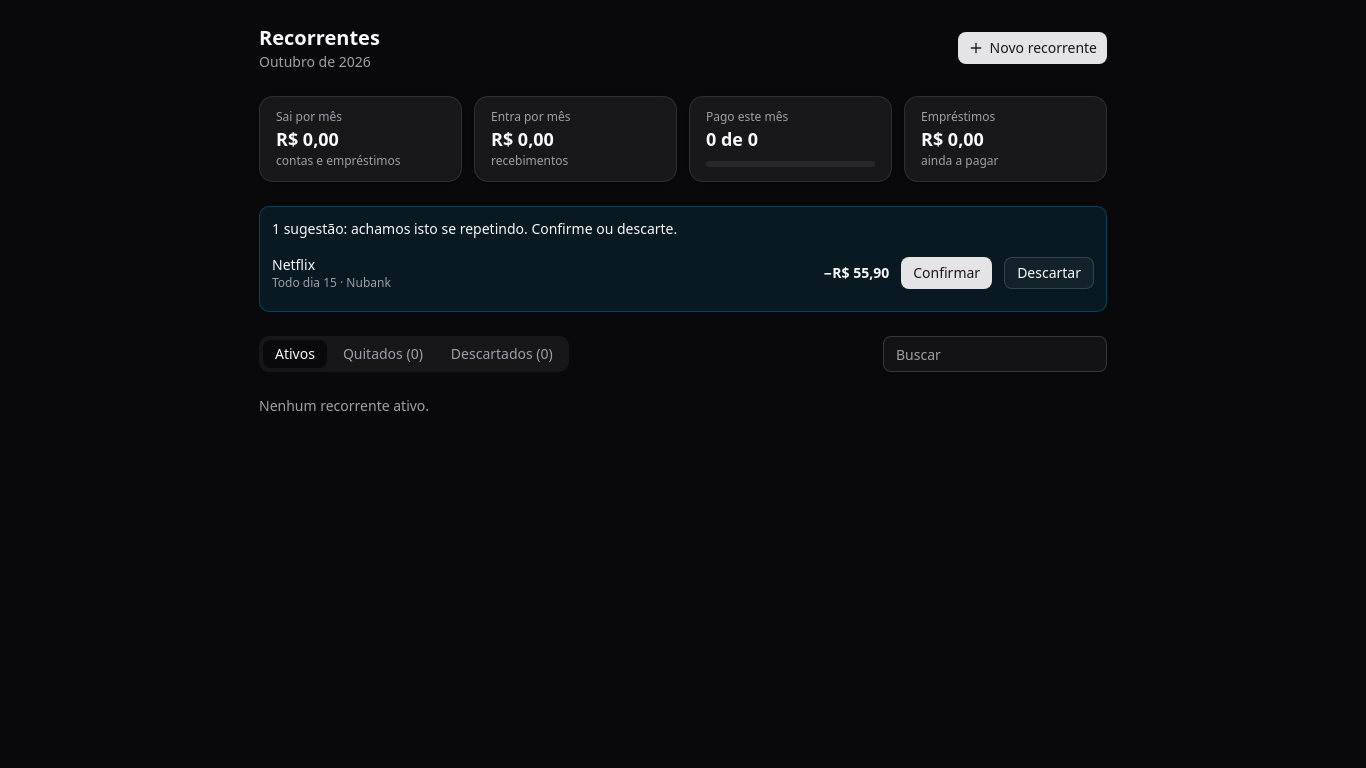
Recurring › rejects dayValue 32 in the form
Click the button "Confirmar" at (947, 273), box 901,257 -> 992,289
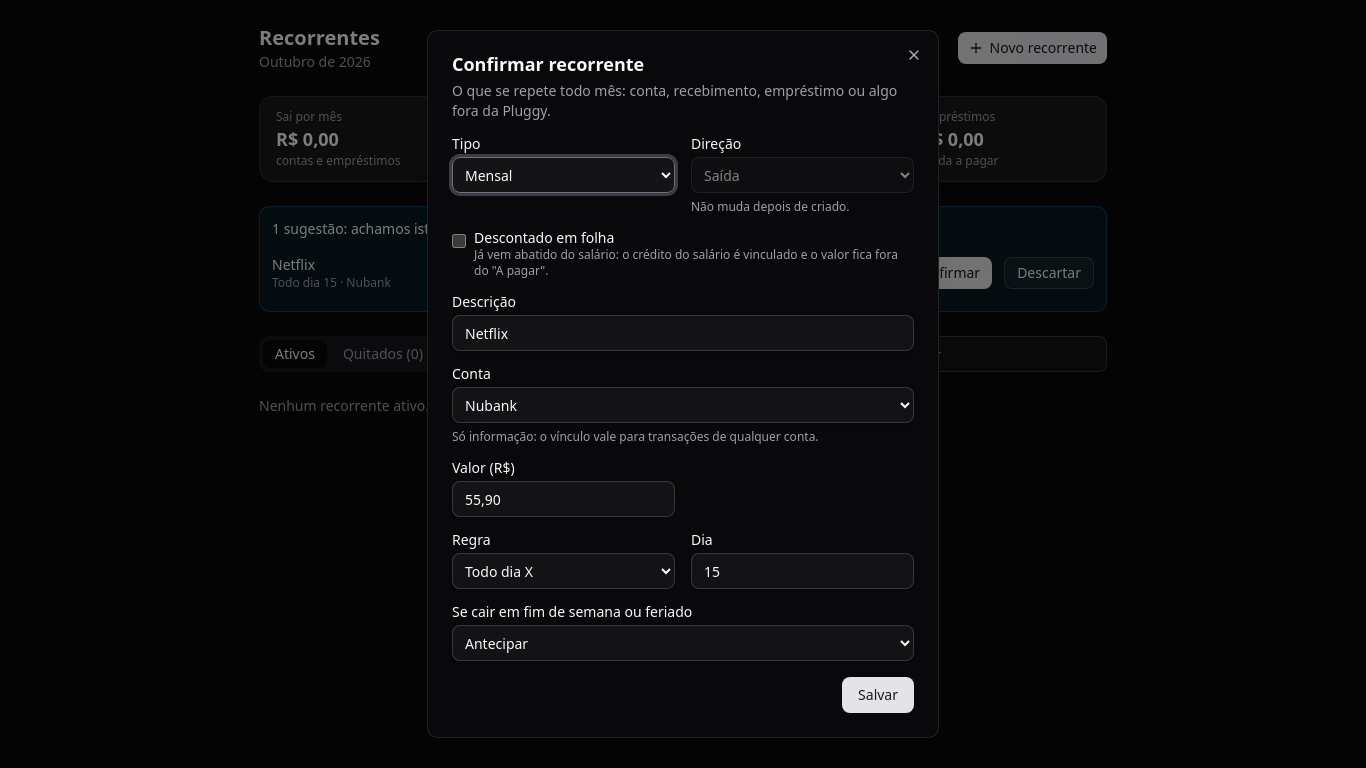
Replace the text in the field labelled "Dia" with "32" at (802, 571), box 691,553 -> 914,589
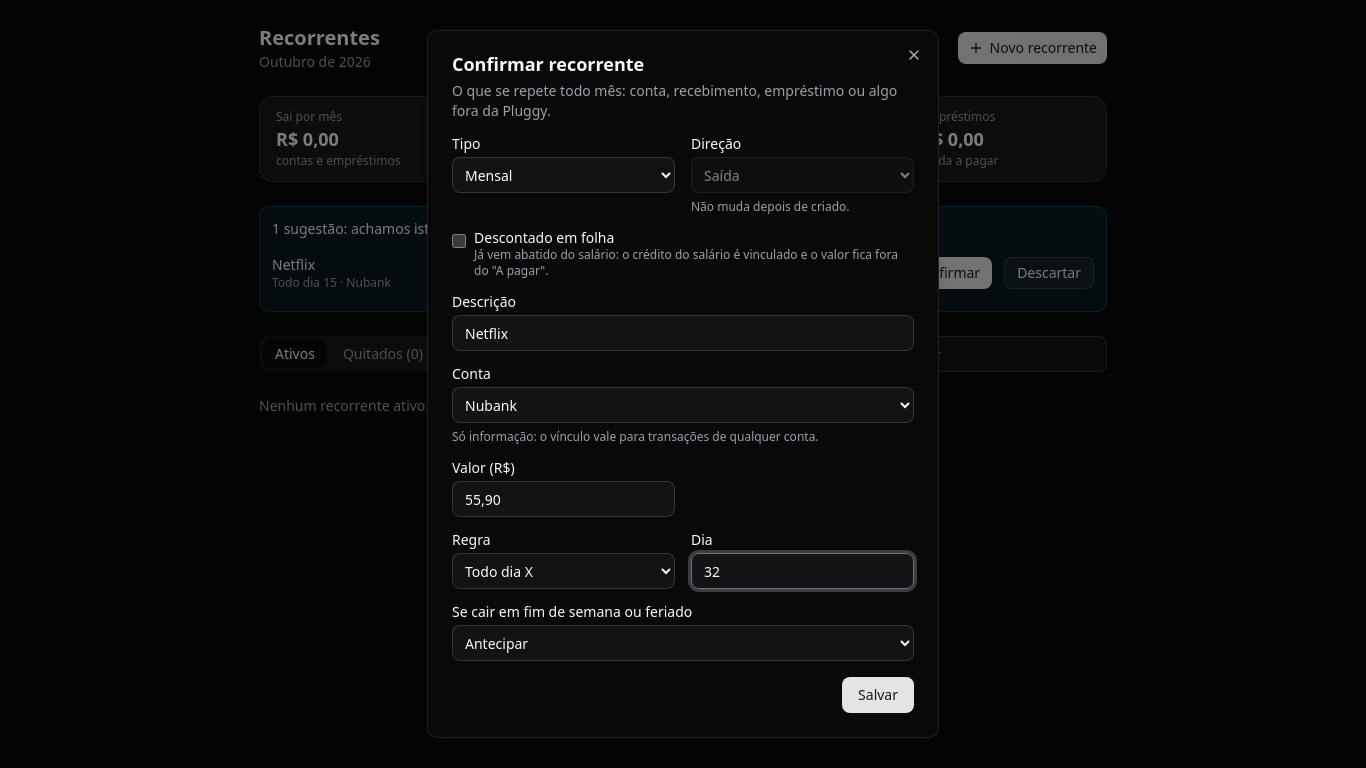
Click the button "Salvar" at (878, 695), box 842,677 -> 914,713
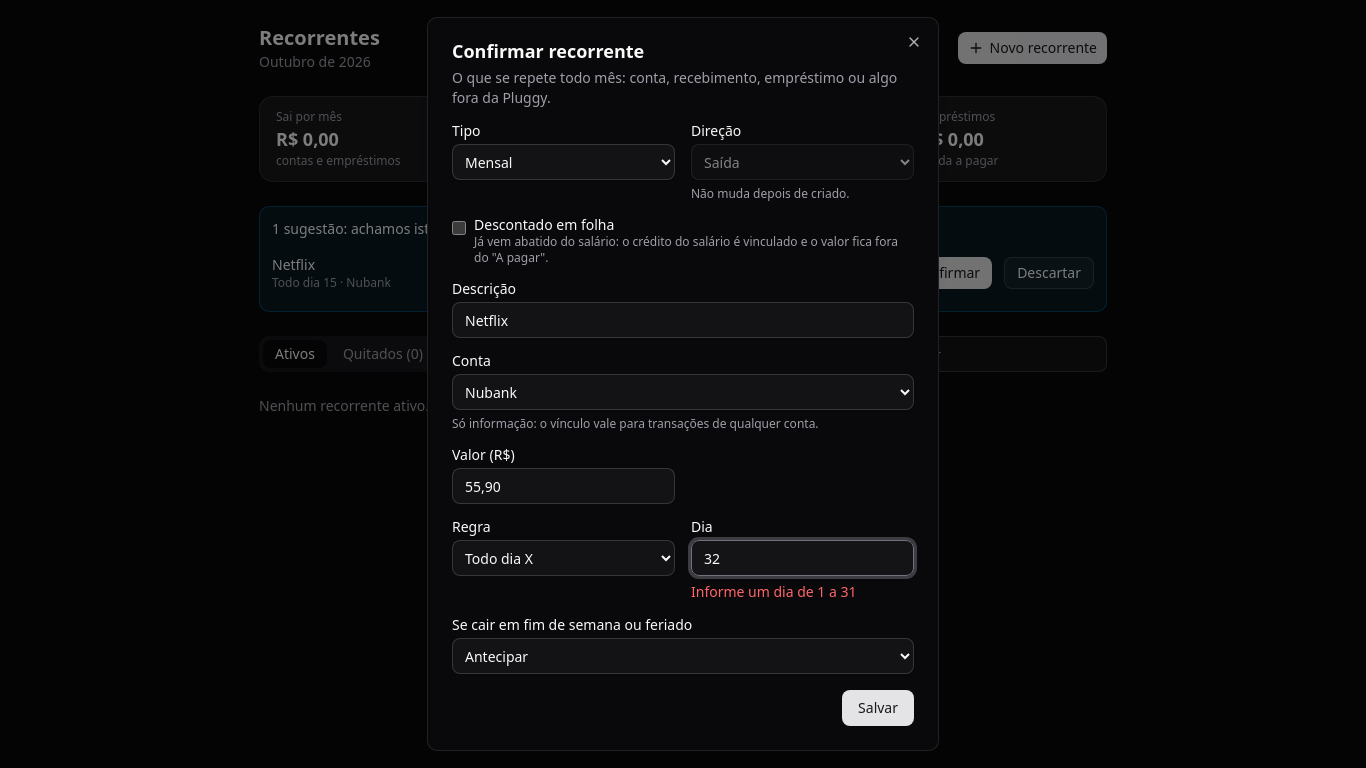
Expected: the message "Informe um dia de 1 a 31" is shown, 691,582 -> 856,601
